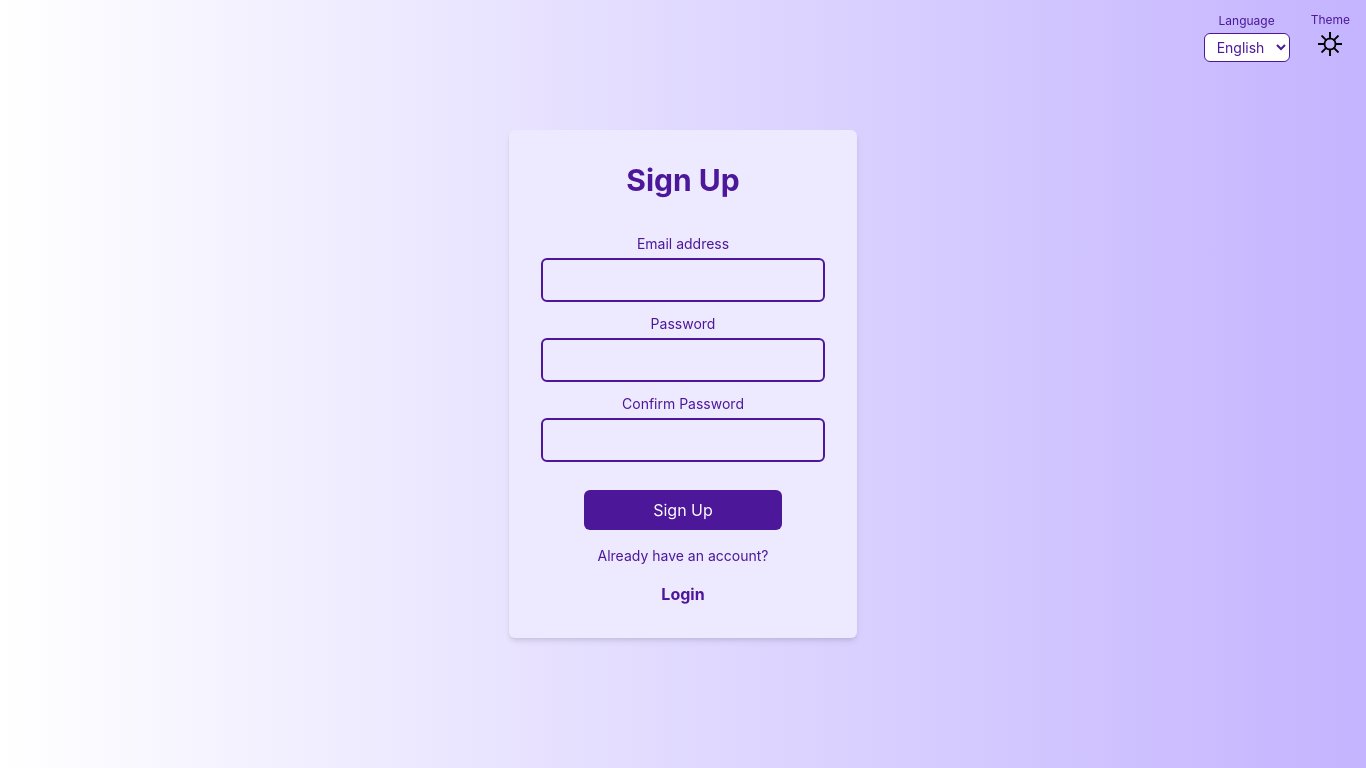
SignupPage tests › should display backend error when action returns an error
This screenshot has width=1366, height=768.
Type "test@example.com" into the field labelled "Email address" at (683,280), box left=541, top=258, right=825, bottom=302
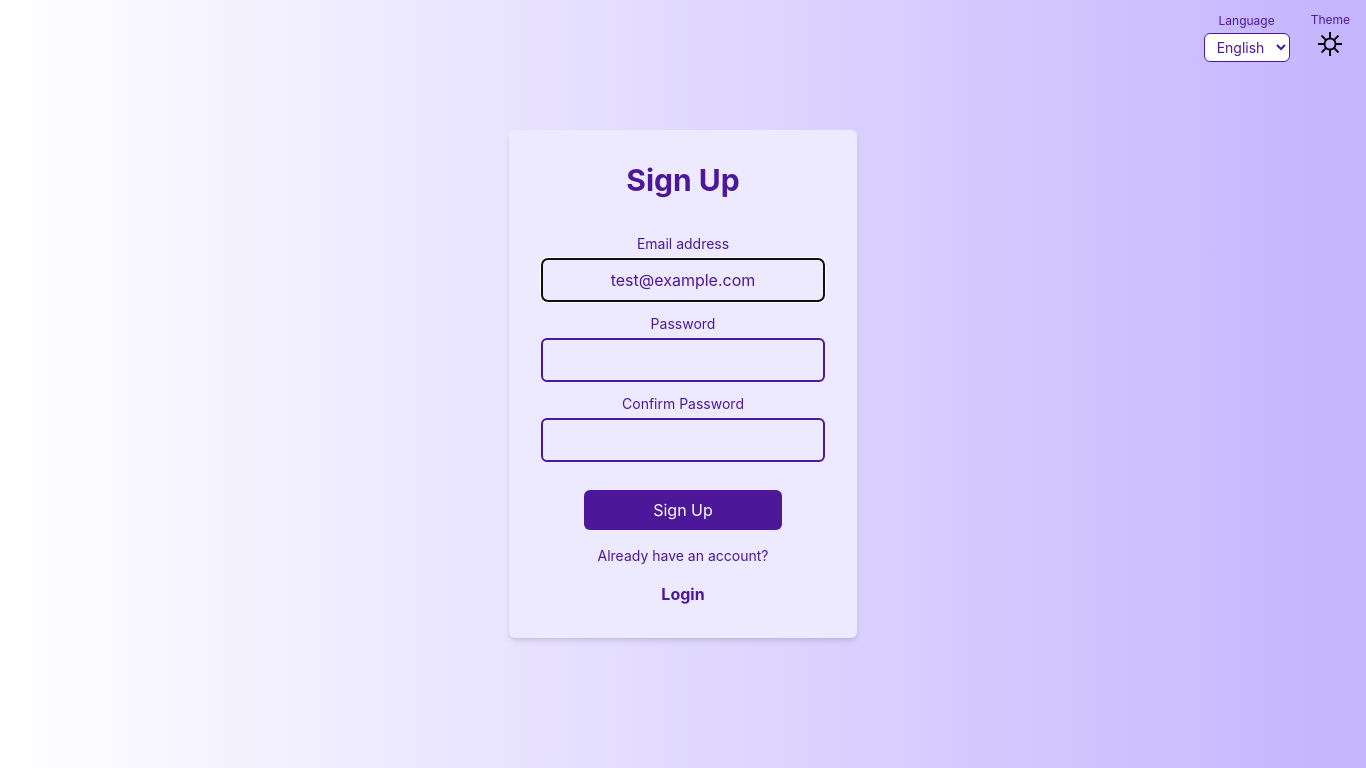
Type "password123" into the password field labelled "Password" at (683,360), box left=541, top=338, right=825, bottom=382
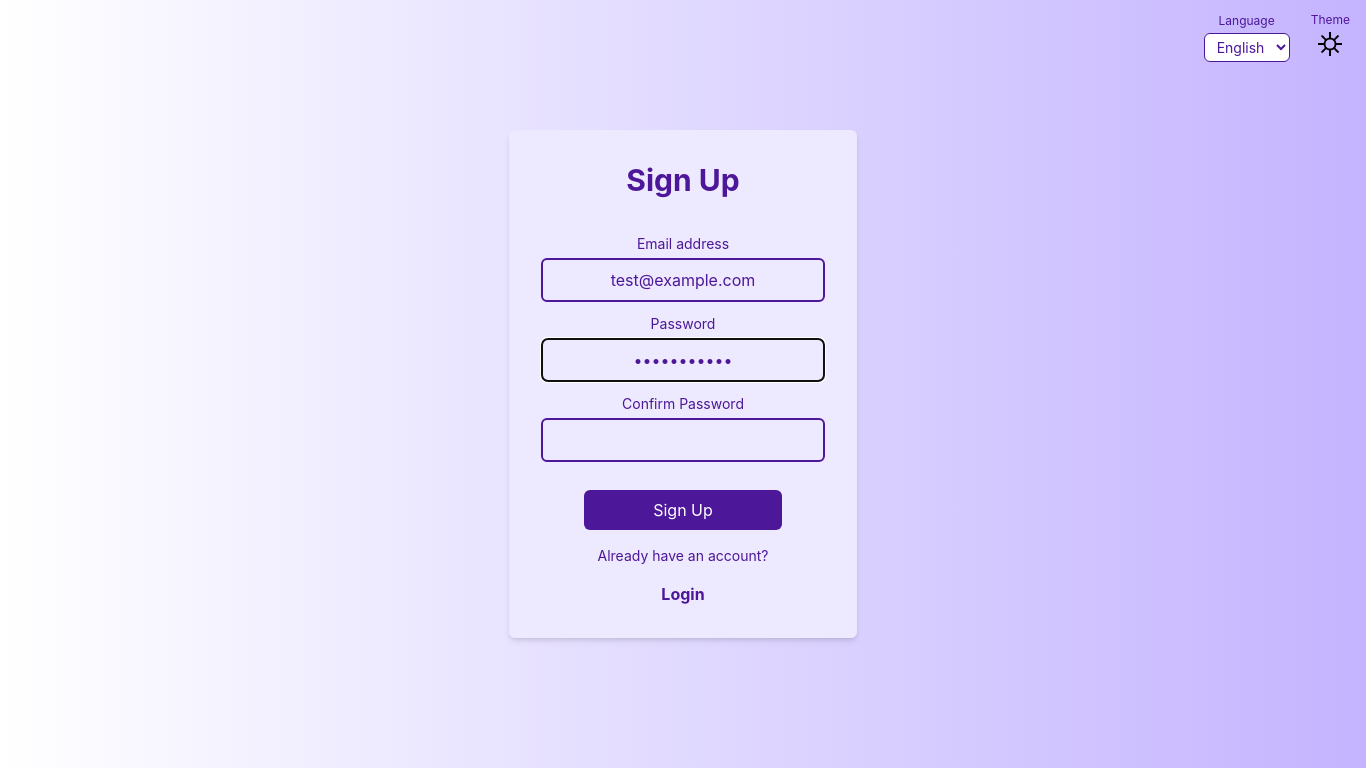
Type "password123" into the password field labelled "Confirm Password" at (683,440), box left=541, top=418, right=825, bottom=462
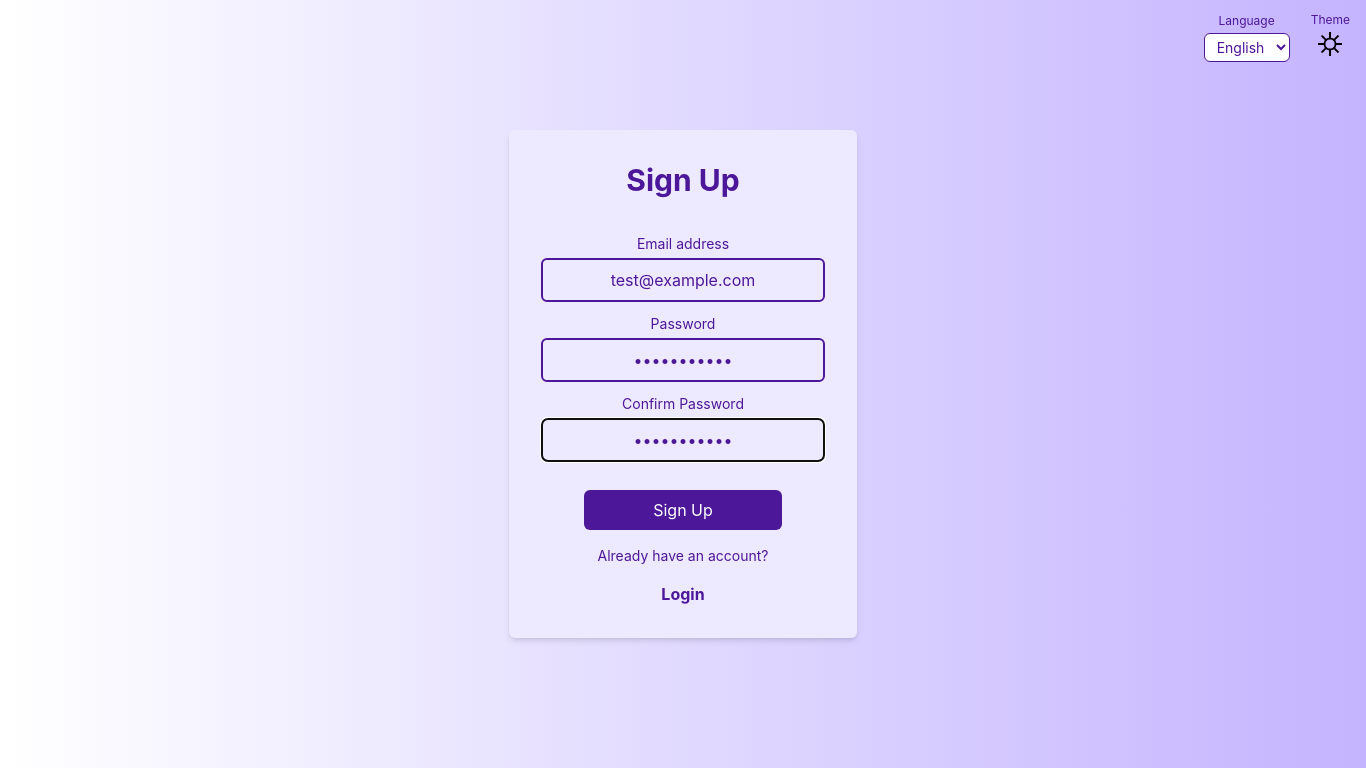
Click the button "Sign Up" at (683,510), box left=584, top=490, right=782, bottom=530
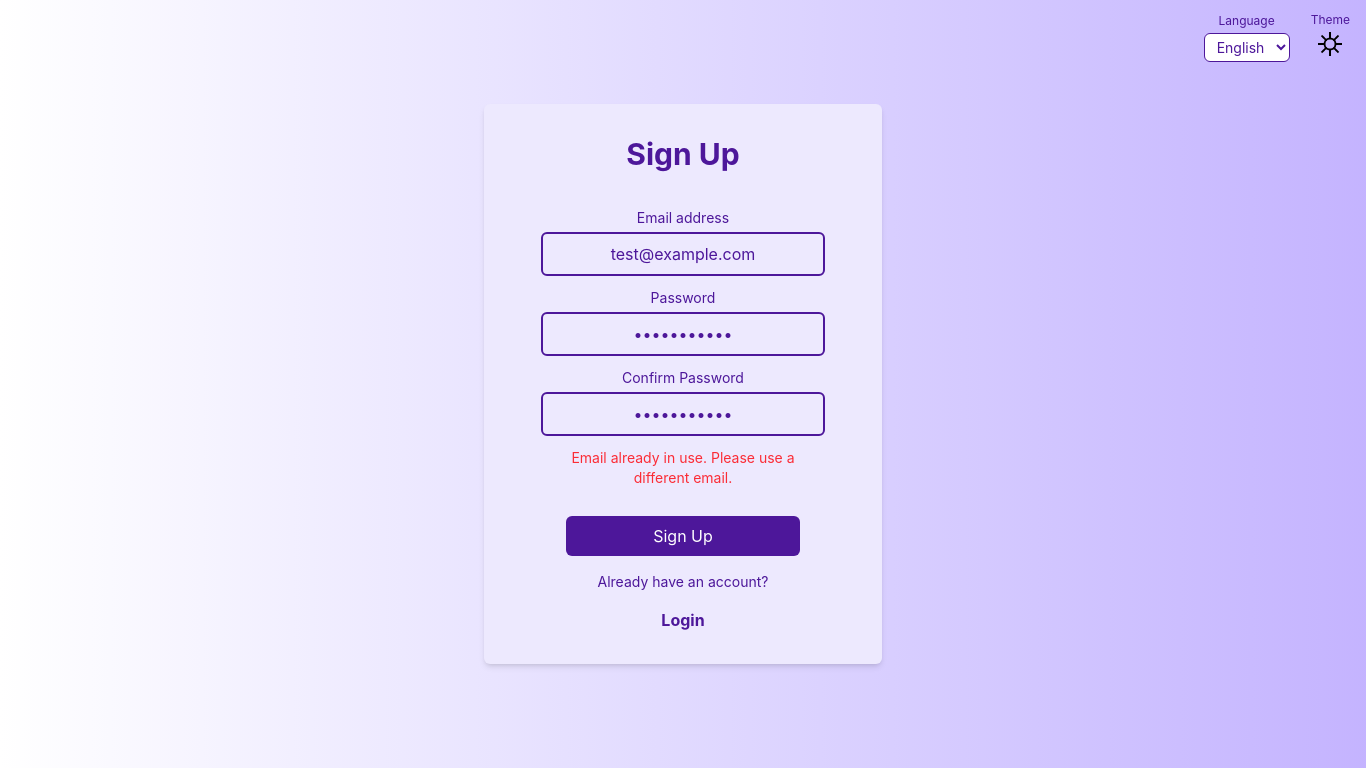
Expected: the text "Email already in use. Please use a different email." is shown, left=561, top=448, right=805, bottom=488
